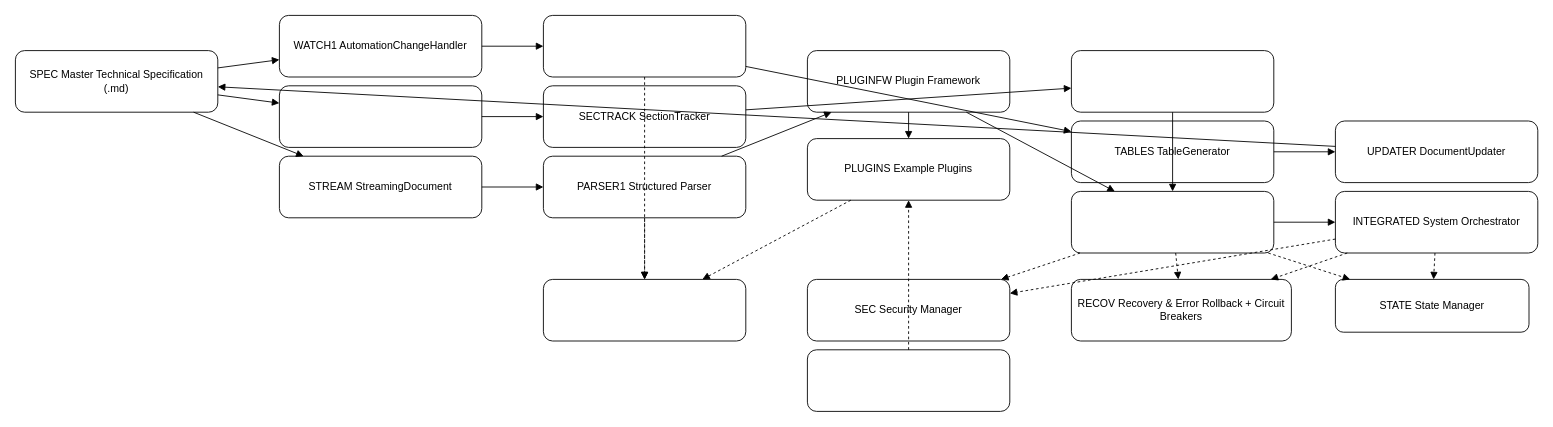
Some shapes in this 1553 by 427 pixel diagram are drawn without their labels. Each missing label, with the centre of its shape:
"ARTGEN ArtifactGenerator" belongs at (x=1172, y=81).
"COORD Concurrent Coordinator" belongs at (x=1172, y=222).
"MDM Master Data Registry" belongs at (x=644, y=310).
"PARSER2 DocumentParser" belongs at (x=644, y=46).
"TOOLING Plugin Dev Tools" belongs at (x=908, y=380).
"WATCH2 DocumentChangeHandler" belongs at (x=380, y=116).
